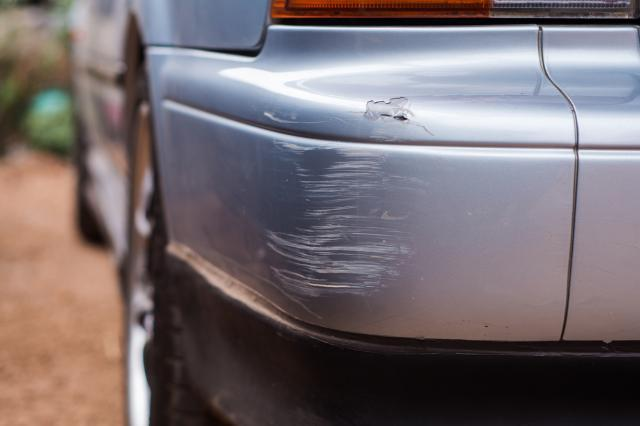scratch: (255, 134, 430, 300), (363, 92, 437, 139)
